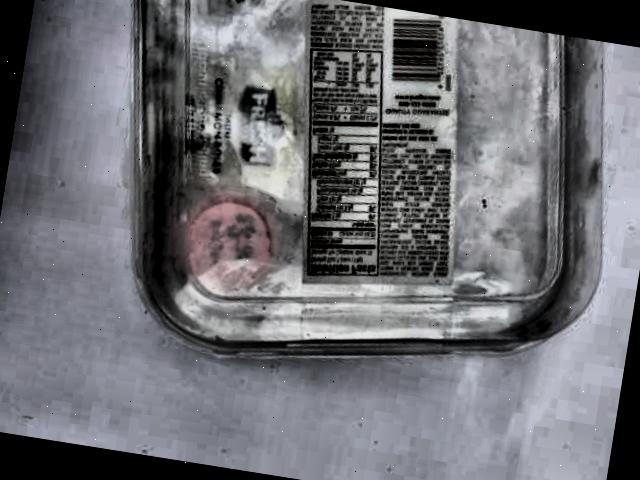Plastic: (63, 0, 640, 425)
